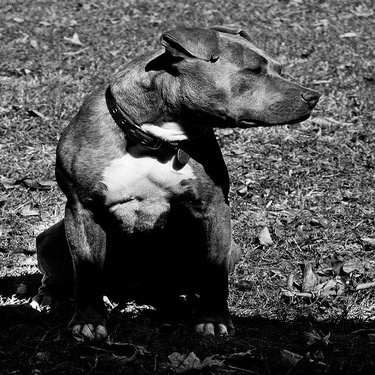dog: (29, 19, 324, 352)
